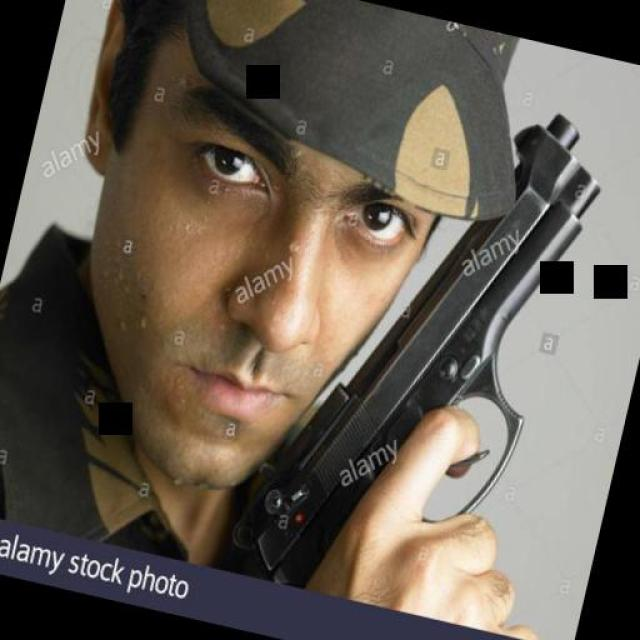gun: (220, 61, 619, 635)
